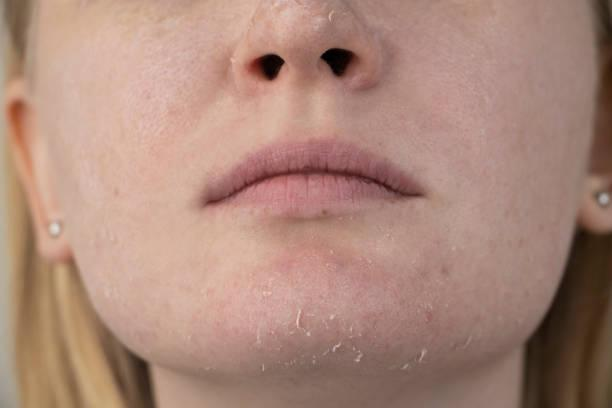Dry-Skin: (152, 235, 518, 376), (428, 14, 602, 190), (34, 17, 197, 191)
